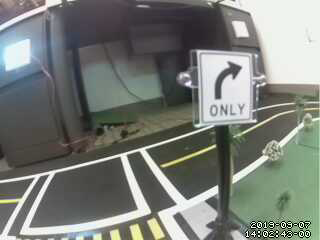Right_only_sign: (196, 55, 254, 120)
